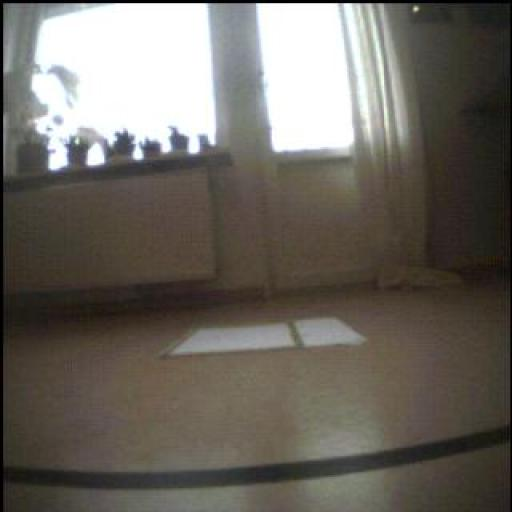Pad: (158, 311, 366, 351)
